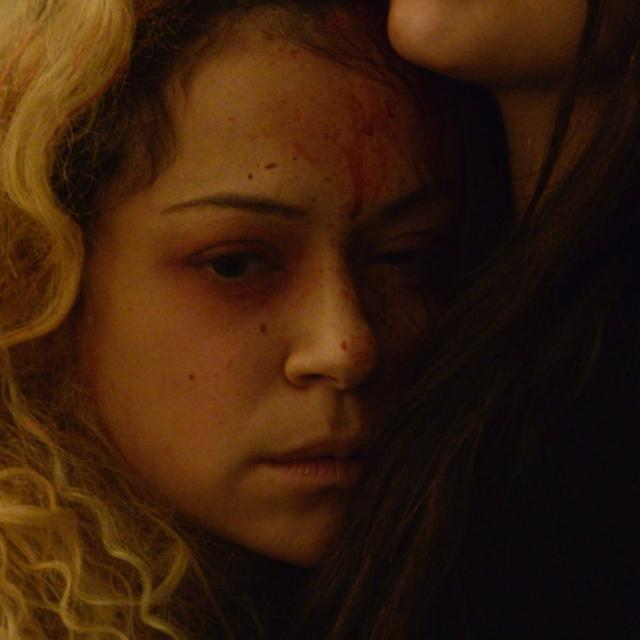Depress: (89, 15, 505, 570)
